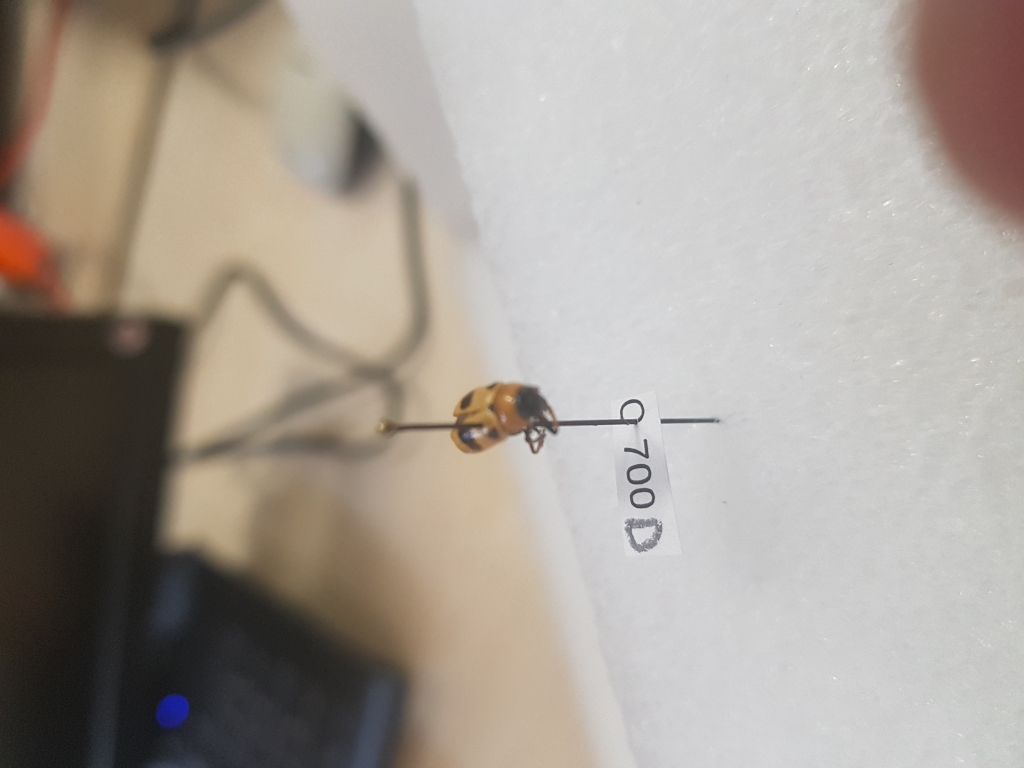Tituboea_macropus: (444, 382, 560, 455)
